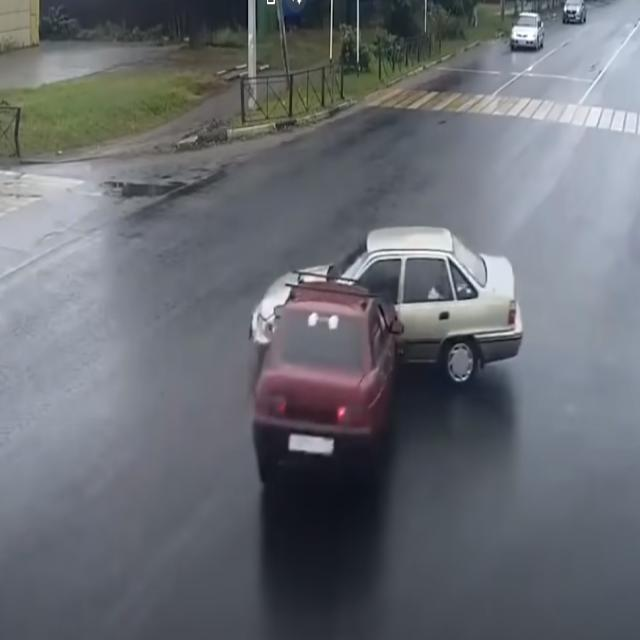accident: (252, 229, 522, 481)
